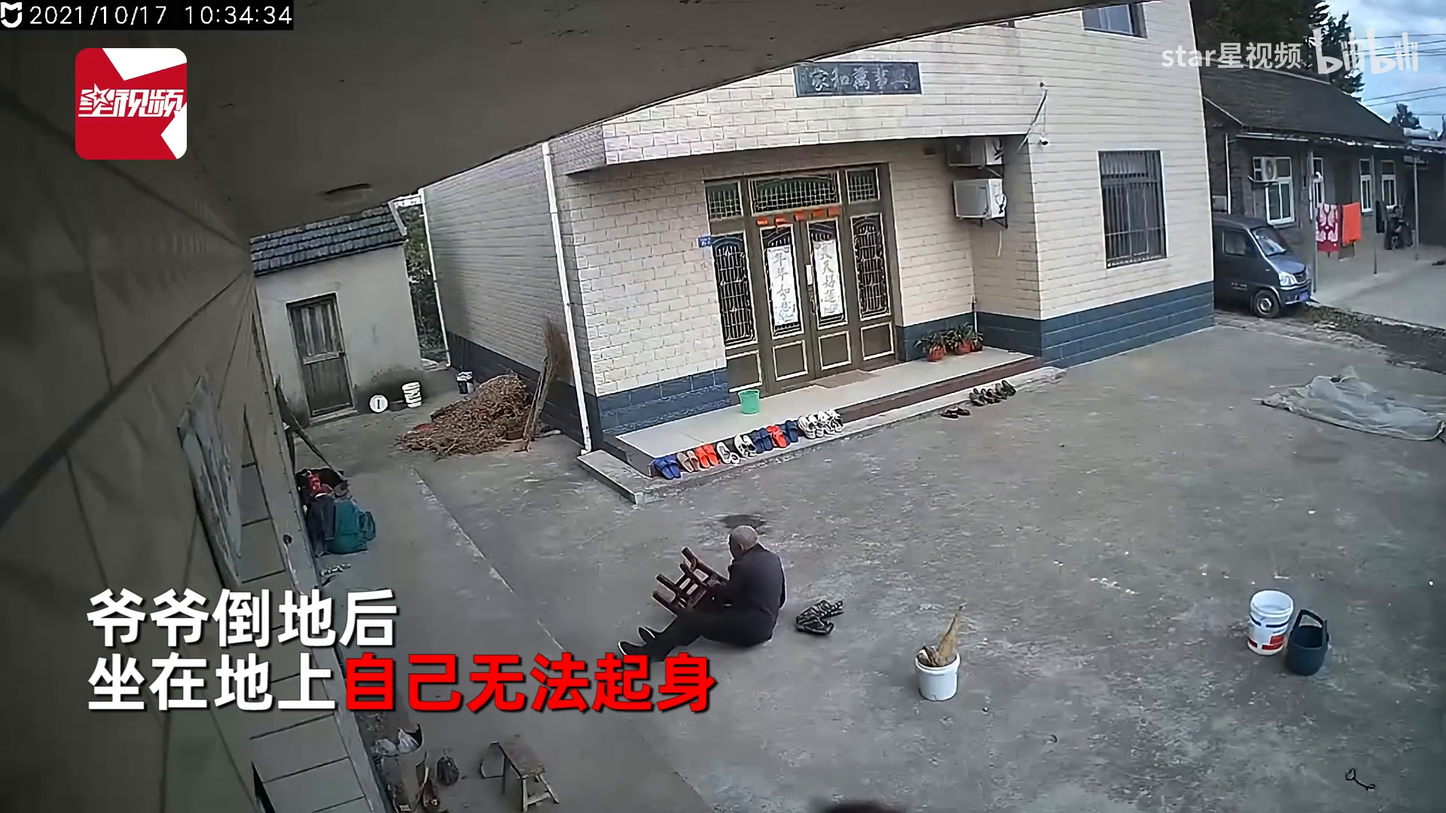half_up: (630, 523, 785, 660)
